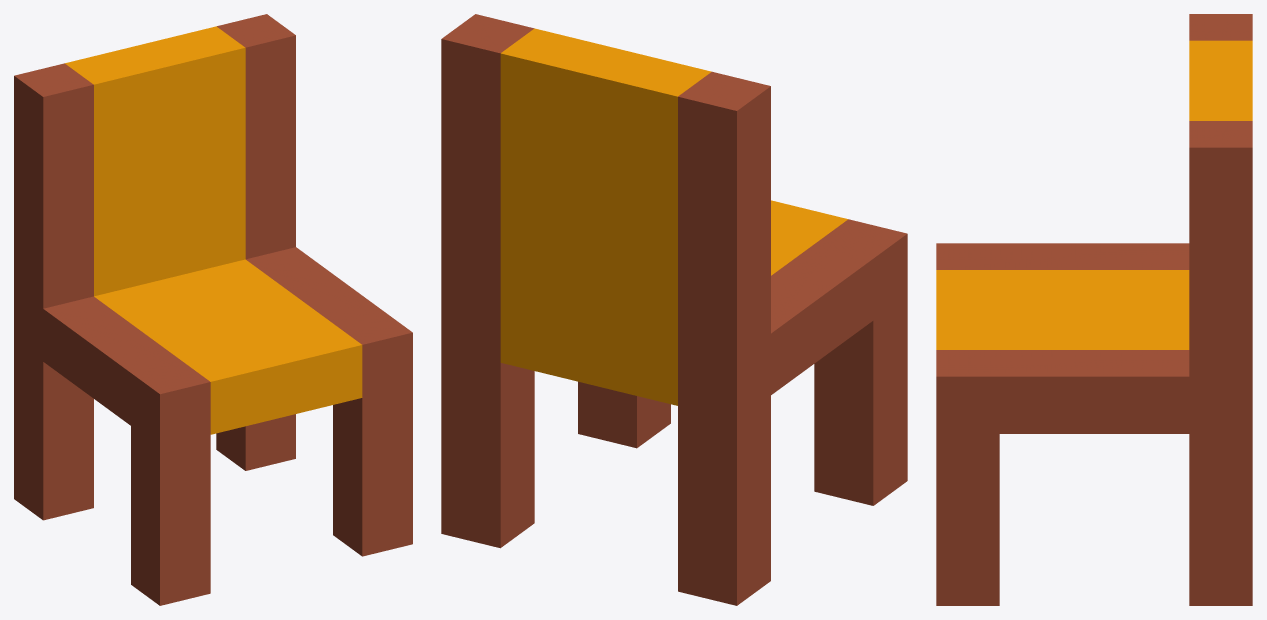
The model's file is chair_a_yellow.obj.
3 renders of one model, left to right at view 1: azimuth 30°, elevation 25°; view 2: azimuth 150°, elevation 25°; view 3: azimuth 270°, elevation 25°, orthographic. The views are drawn at different scales.
Bounding box in the file's own units: 0.5 × 0.8 × 0.5.
1 material, 1 textured.
